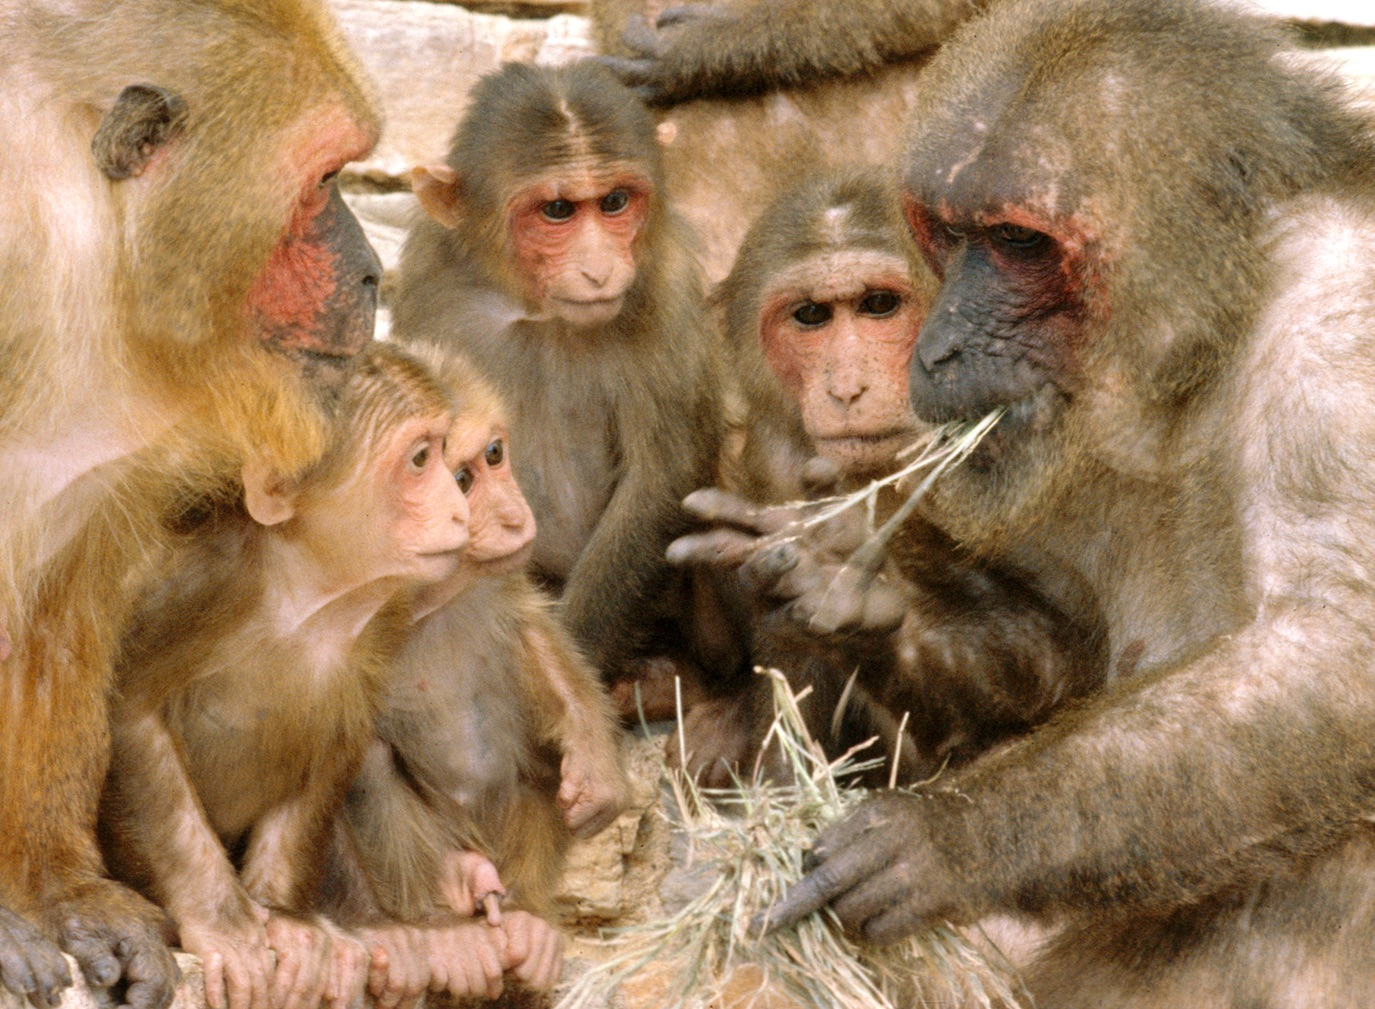monkey: (670, 5, 1375, 1009), (1, 5, 397, 1009), (402, 56, 724, 865), (676, 152, 1056, 763), (128, 365, 473, 1009), (284, 351, 616, 1009)
